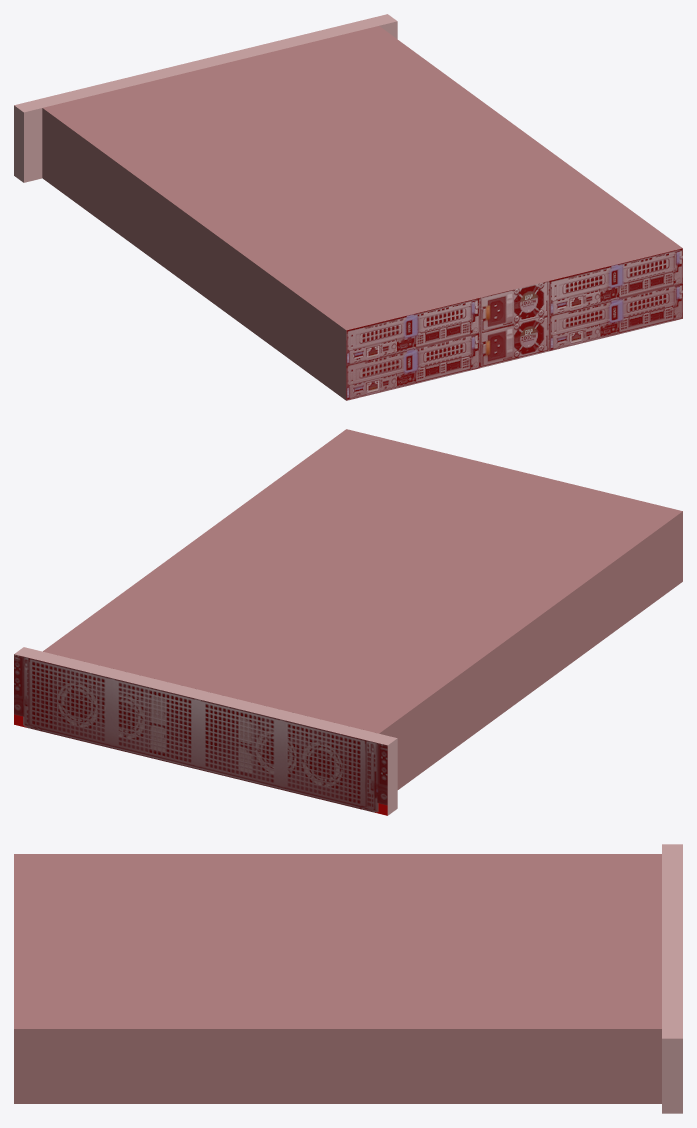
3 views of the same model, one above another, from view 1: azimuth 30°, elevation 25°; view 2: azimuth 150°, elevation 25°; view 3: azimuth 270°, elevation 25° (orthographic). The views are drawn at different scales.
Parts seen in each view (by area): view 1: Chassis_Cube; view 2: Chassis_Cube; view 3: Chassis_Cube.
Boxes of the visible parts, x1=… form: Chassis_Cube: x1=14, y1=14, x2=682, y2=400; Chassis_Cube: x1=14, y1=429, x2=682, y2=815; Chassis_Cube: x1=14, y1=844, x2=682, y2=1113.
Size of the model in its own units: 0.6426 by 0.1157 by 0.9344.
